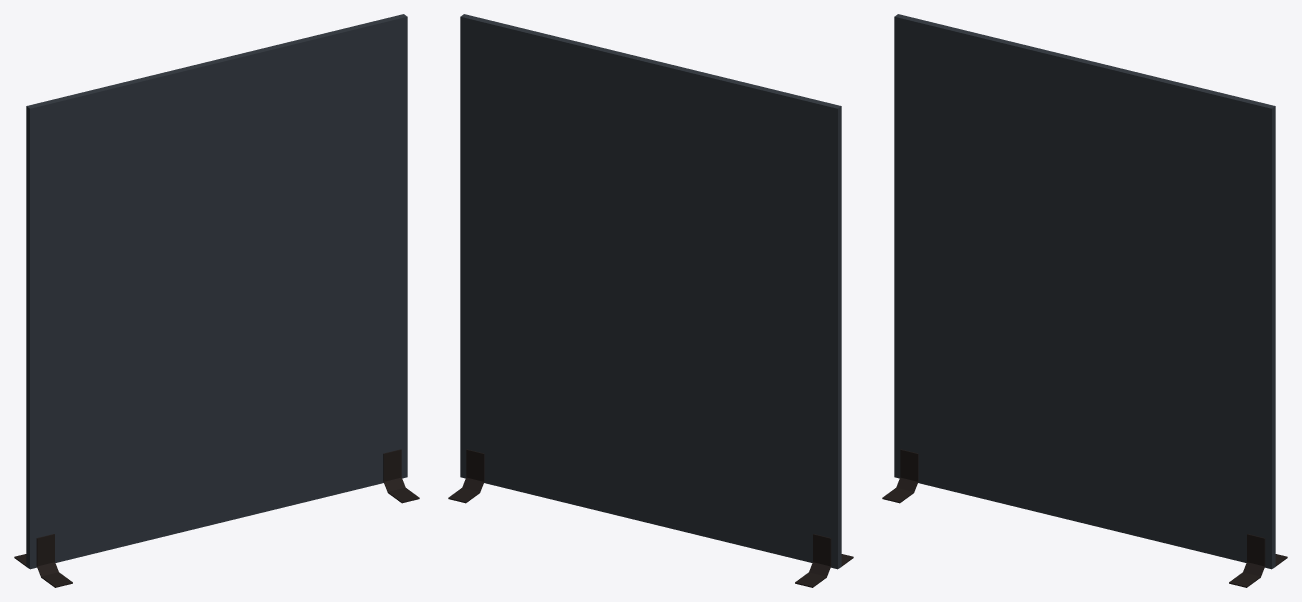
File: PartitionWall.fbx
3 renders of one model, left to right at view 1: azimuth 30°, elevation 25°; view 2: azimuth 150°, elevation 25°; view 3: azimuth 330°, elevation 25°, orthographic.
Visible parts, largest first — view 1: Cube; view 2: Cube; view 3: Cube.
Boxes of the visible parts, x1=… form: Cube: x1=14, y1=14, x2=419, y2=587; Cube: x1=448, y1=14, x2=853, y2=587; Cube: x1=882, y1=14, x2=1287, y2=587.
Size of the model in its own units: 120 by 142 by 22.63.
